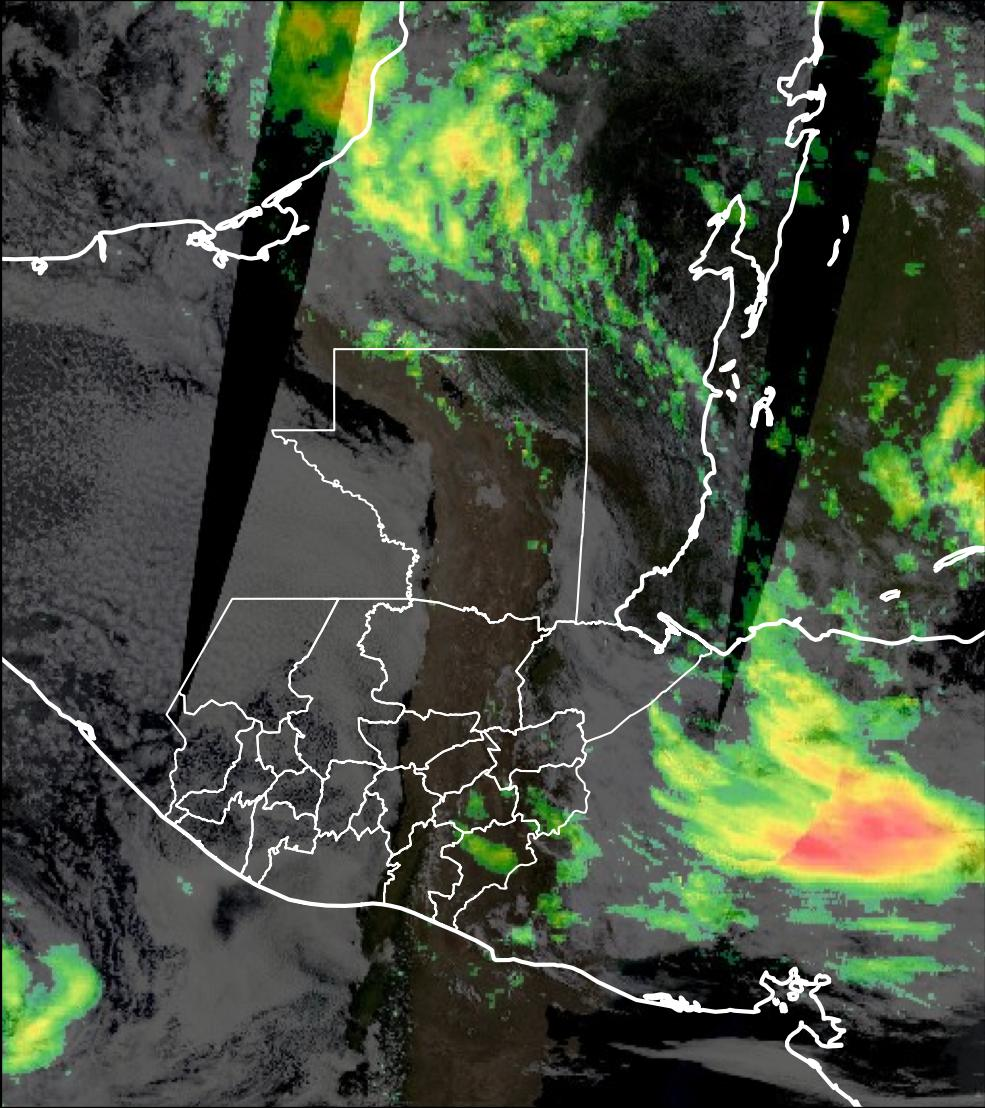precipitacion: (752, 742, 985, 903)
